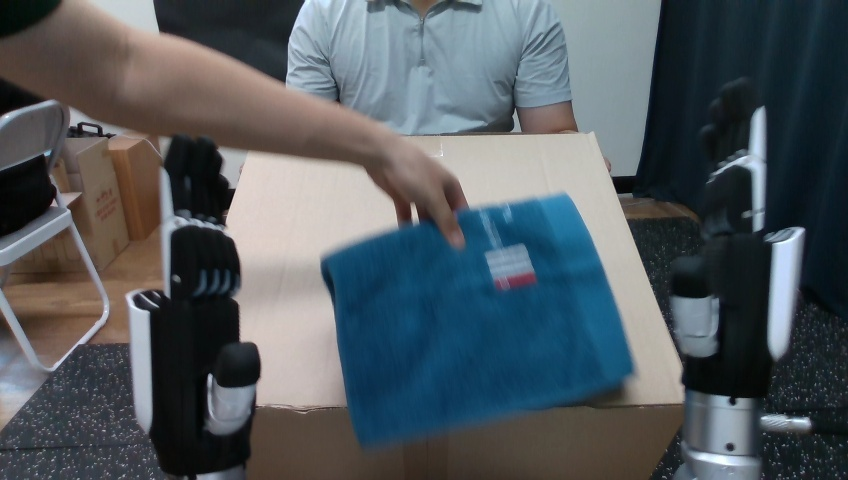left robot hand: (670, 78, 804, 479), (126, 135, 260, 478)
